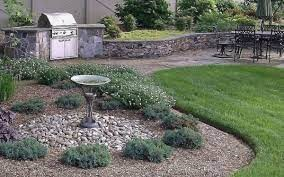grass: (162, 63, 283, 122), (232, 125, 283, 174)
rock: (28, 112, 152, 149)
